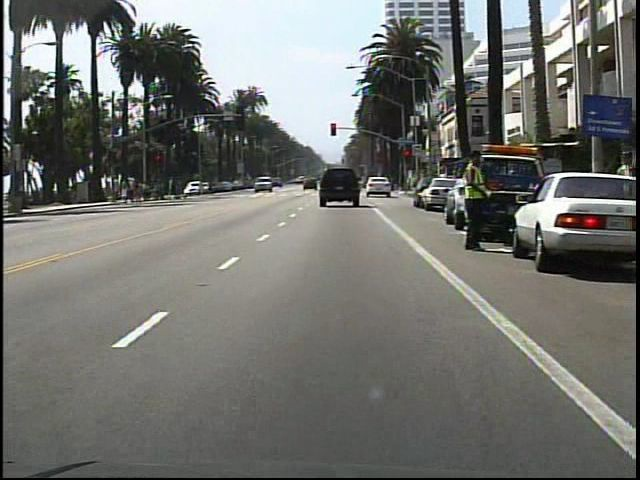person: (605, 145, 639, 249), (461, 145, 491, 259), (203, 172, 222, 201)
